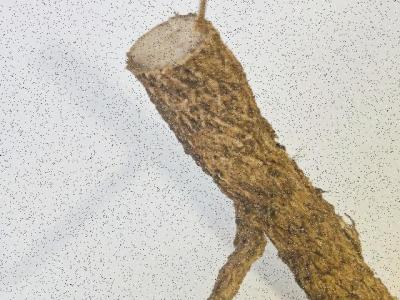Root: (126, 0, 397, 300), (126, 3, 397, 300)
